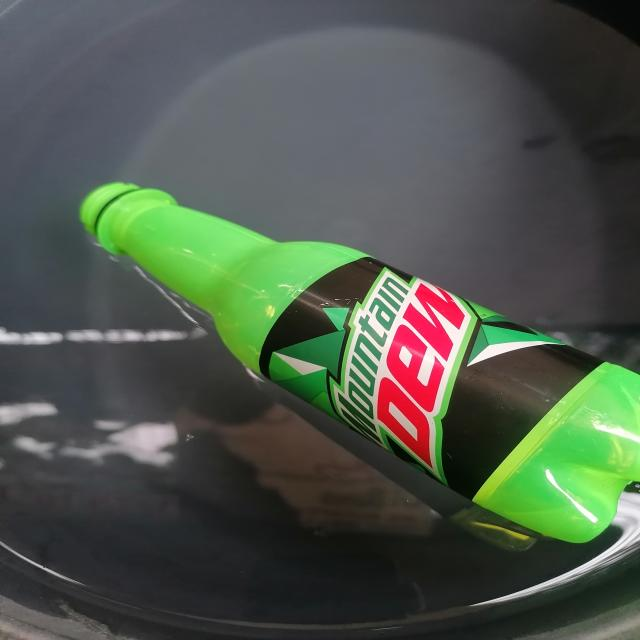Plastic Bottle: (80, 182, 640, 543)
